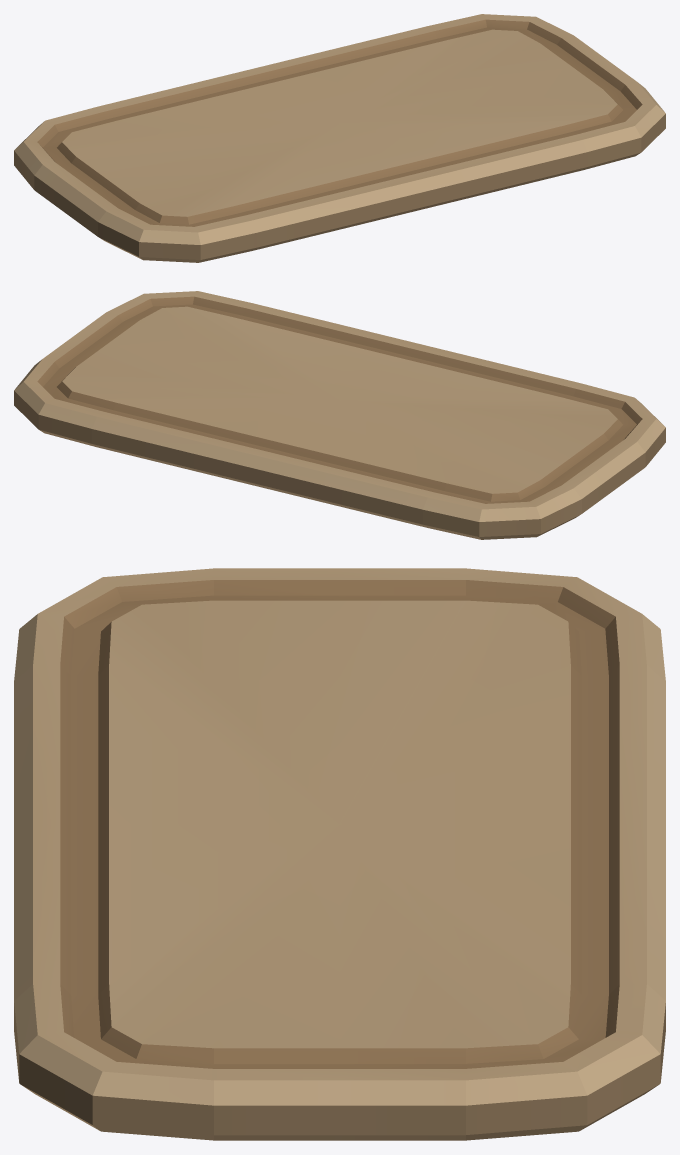
The model's file is planche_M.glb.
3 renders of one model, top to bottom at view 1: azimuth 30°, elevation 25°; view 2: azimuth 150°, elevation 25°; view 3: azimuth 270°, elevation 25°, orthographic. The views are drawn at different scales.
Visible parts, largest first — view 1: planche_M; view 2: planche_M; view 3: planche_M.
Part boxes in pixels (left/top/right/bottom): planche_M: left=14, top=14, right=665, bottom=262; planche_M: left=14, top=291, right=665, bottom=539; planche_M: left=14, top=568, right=665, bottom=1140.
Bounding box in the file's own units: 4.6 × 0.2398 × 2.4.
